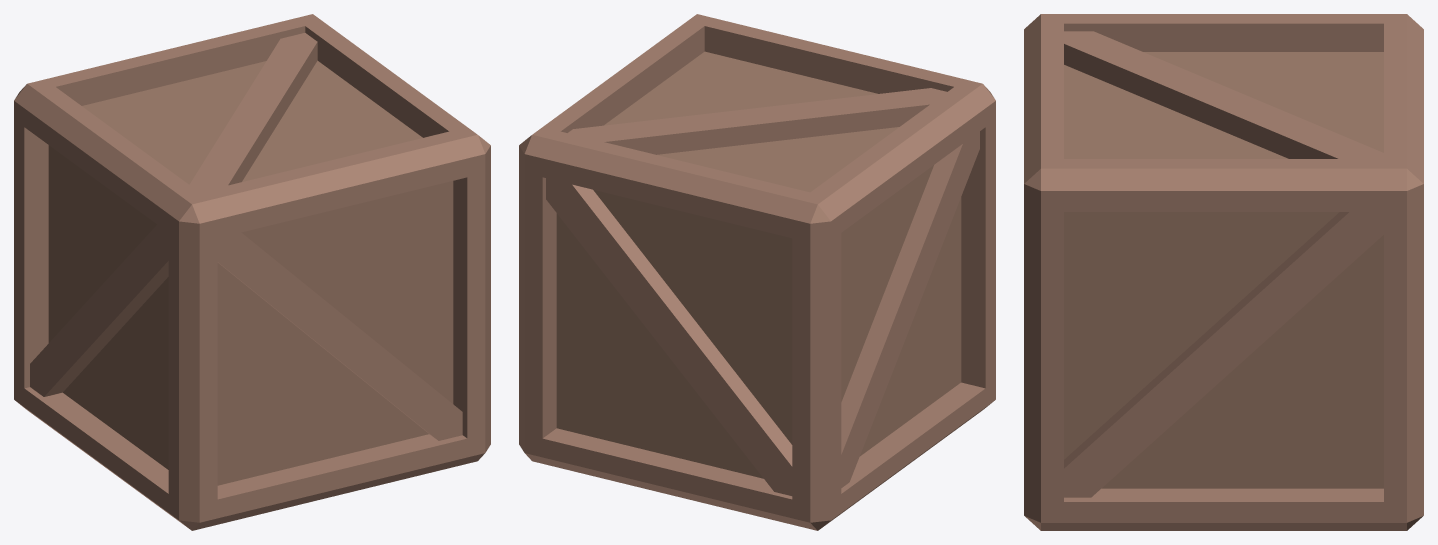
Rendered from Crate_02.fbx.
3 renders of one model, left to right at view 1: azimuth 30°, elevation 25°; view 2: azimuth 150°, elevation 25°; view 3: azimuth 270°, elevation 25°, orthographic. The views are drawn at different scales.
Visible parts, largest first — view 1: Crate; view 2: Crate; view 3: Crate.
Part boxes in pixels (left/top/right/bottom): Crate: left=14, top=14, right=490, bottom=530; Crate: left=519, top=14, right=995, bottom=530; Crate: left=1024, top=14, right=1423, bottom=530.
Size of the model in its own units: 82.99 by 82.99 by 82.99.
